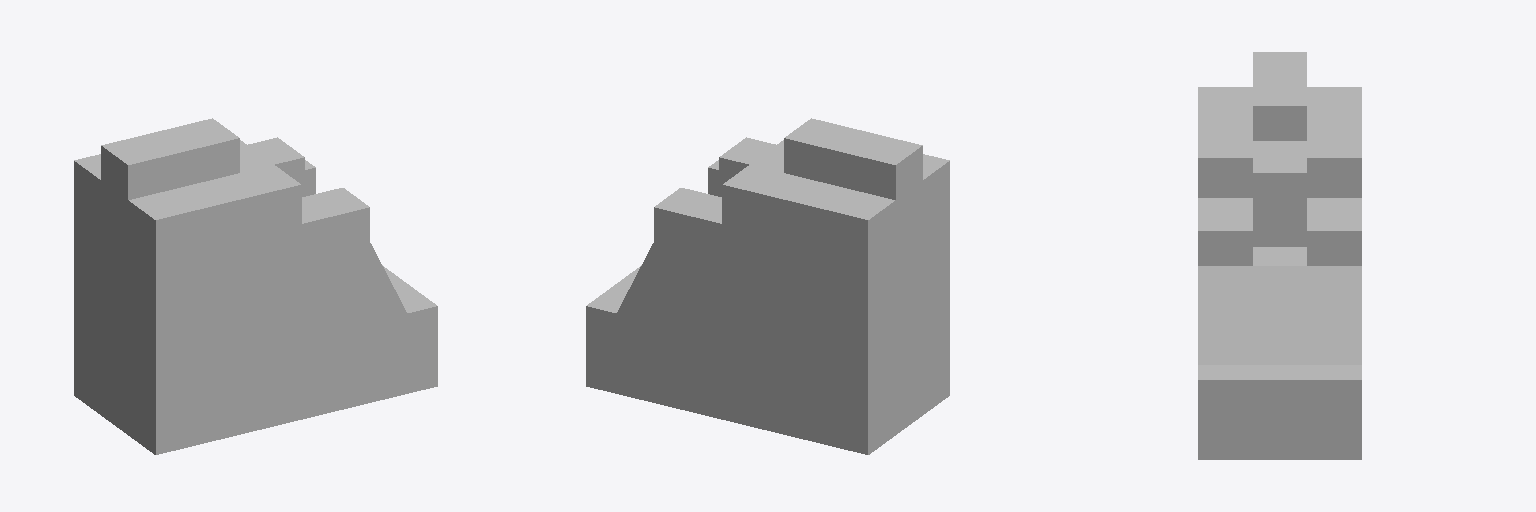
Rendered from mHill2.obj.
3 renders of one model, left to right at view 1: azimuth 30°, elevation 25°; view 2: azimuth 150°, elevation 25°; view 3: azimuth 270°, elevation 25°, orthographic.
Visible parts, largest first — view 1: mHill2 polySurface42; view 2: mHill2 polySurface42; view 3: mHill2 polySurface42.
Part boxes in pixels (x1,y1,x2,y2): mHill2 polySurface42: (74,118,437,454); mHill2 polySurface42: (586,118,949,454); mHill2 polySurface42: (1198,52,1361,459).
Size of the model in its own units: 18 by 16.44 by 9.